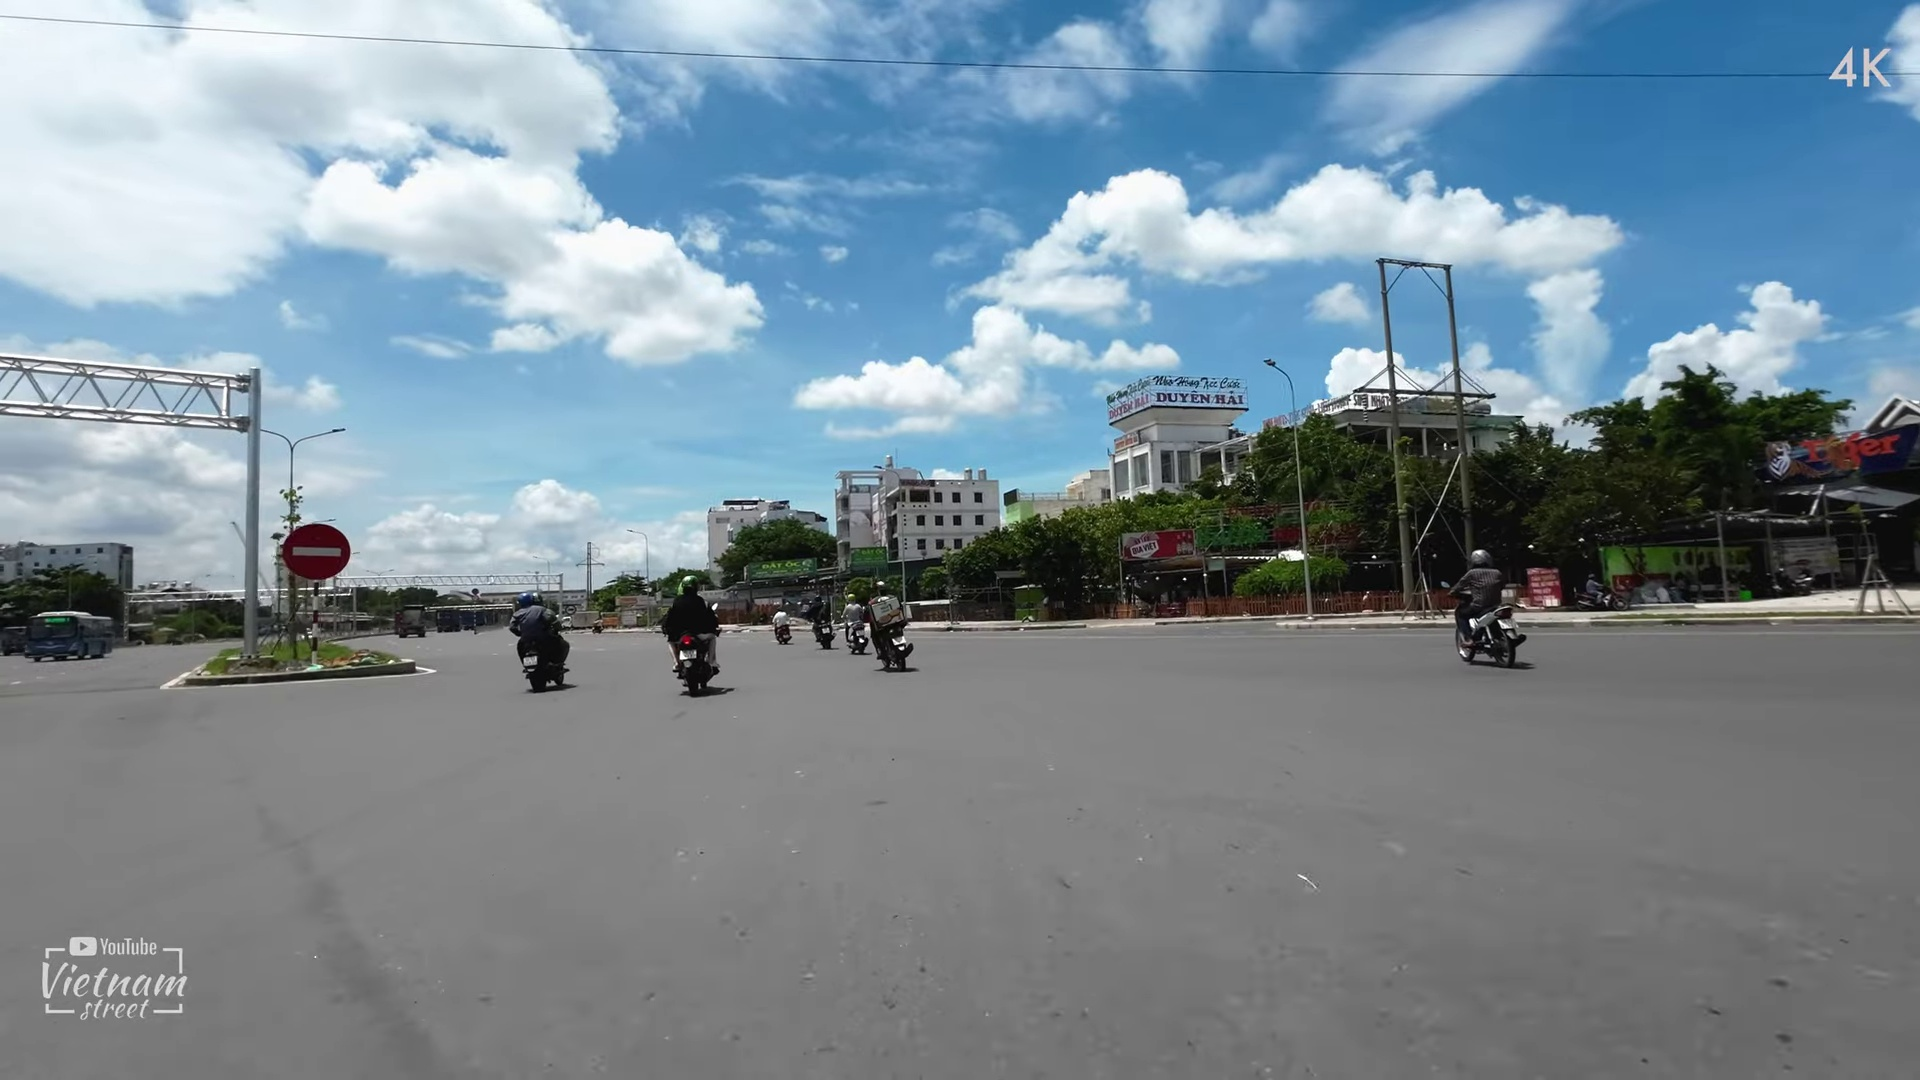cam_nguoc_chieu: (276, 520, 353, 585)
